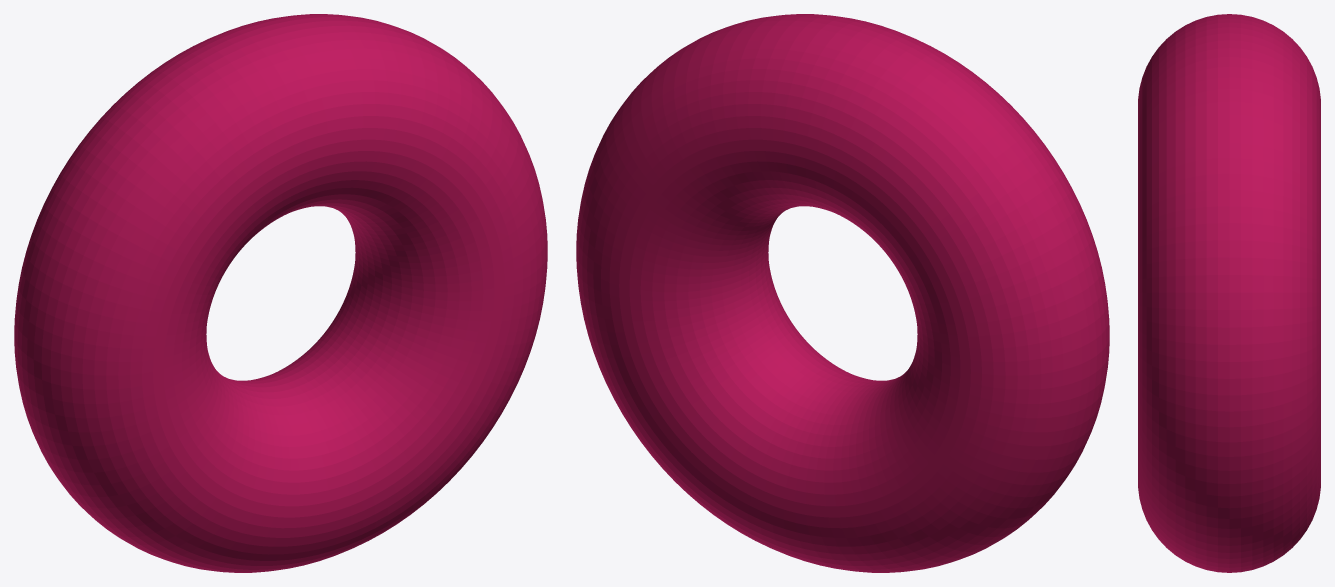
The picture shows the model from 3 angles, left to right: view 1: azimuth 30°, elevation 25°; view 2: azimuth 150°, elevation 25°; view 3: azimuth 270°, elevation 25°; orthographic projection. The views are drawn at different scales.
Parts seen in each view (by area): view 1: world; view 2: world; view 3: world.
Boxes of the visible parts, bbox=[...] form: world: bbox=[14, 14, 547, 572]; world: bbox=[576, 14, 1109, 572]; world: bbox=[1138, 14, 1320, 572].
Bounding box in the file's own units: 24.8 × 24.8 × 8.12.
